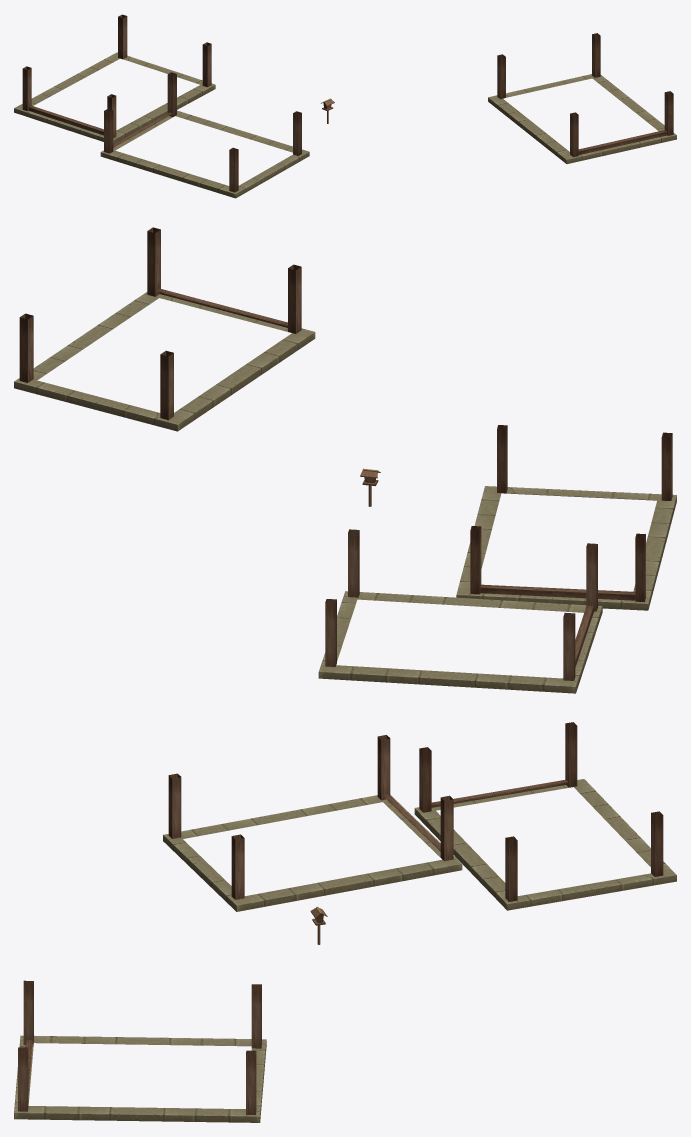
The model's file is Area_11_38.fbx.
3 views of the same model, one above another, from view 1: azimuth 30°, elevation 25°; view 2: azimuth 150°, elevation 25°; view 3: azimuth 270°, elevation 25° (orthographic). The views are drawn at different scales.
Visible parts, largest first — view 1: Area_11_38; view 2: Area_11_38; view 3: Area_11_38.
Part boxes in pixels (left/top/right/bottom): Area_11_38: left=14, top=14, right=676, bottom=198; Area_11_38: left=14, top=227, right=676, bottom=693; Area_11_38: left=14, top=722, right=676, bottom=1122.
Bounding box in the file's own units: 4679 × 438 × 3864.
